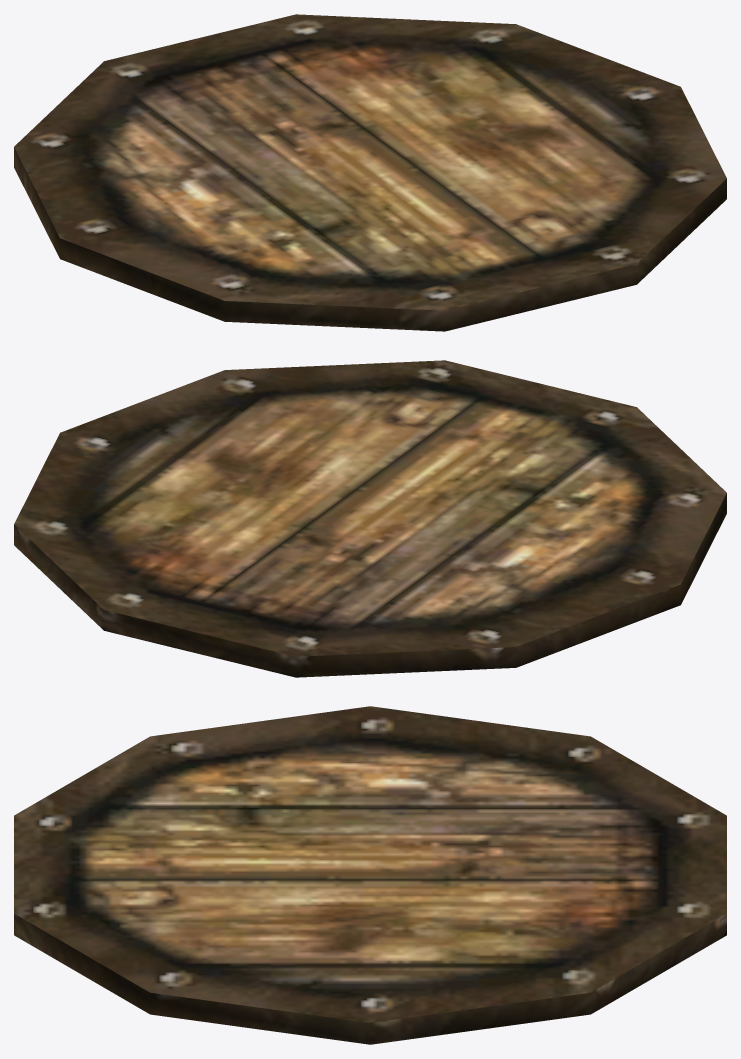
3 views of the same model, one above another, from view 1: azimuth 30°, elevation 25°; view 2: azimuth 150°, elevation 25°; view 3: azimuth 270°, elevation 25° (orthographic). The views are drawn at different scales.
Parts seen in each view (by area): view 1: ms0; view 2: ms0; view 3: ms0.
Part boxes in pixels (<box>): ms0: <box>14,14,726,331</box>; ms0: <box>14,360,726,677</box>; ms0: <box>14,706,726,1044</box>.
Bounding box in the file's own units: 0.5224 × 0.0786 × 0.4968.
1 material, 1 textured.
